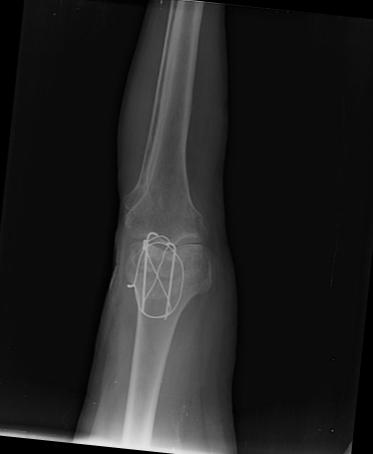fractured: (144, 244, 172, 297)
